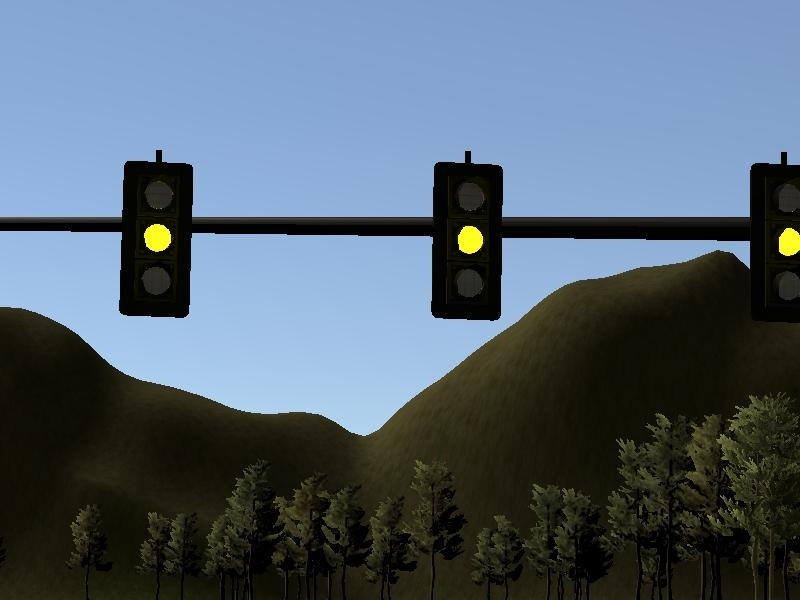yellow: (106, 145, 200, 326), (425, 148, 510, 329), (741, 144, 800, 327)
